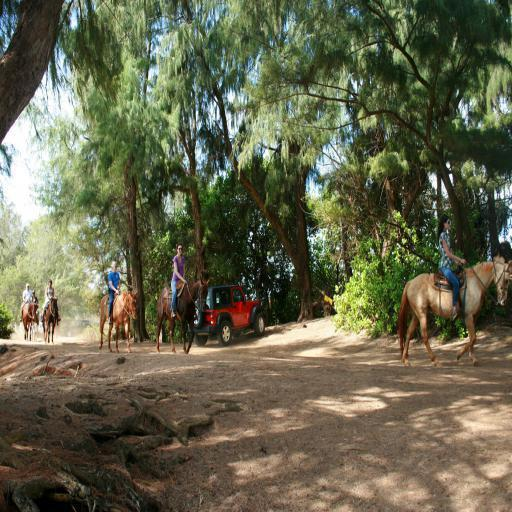horse: (396, 254, 512, 369), (158, 275, 212, 354), (96, 287, 140, 354), (18, 298, 40, 342), (40, 296, 60, 344)
